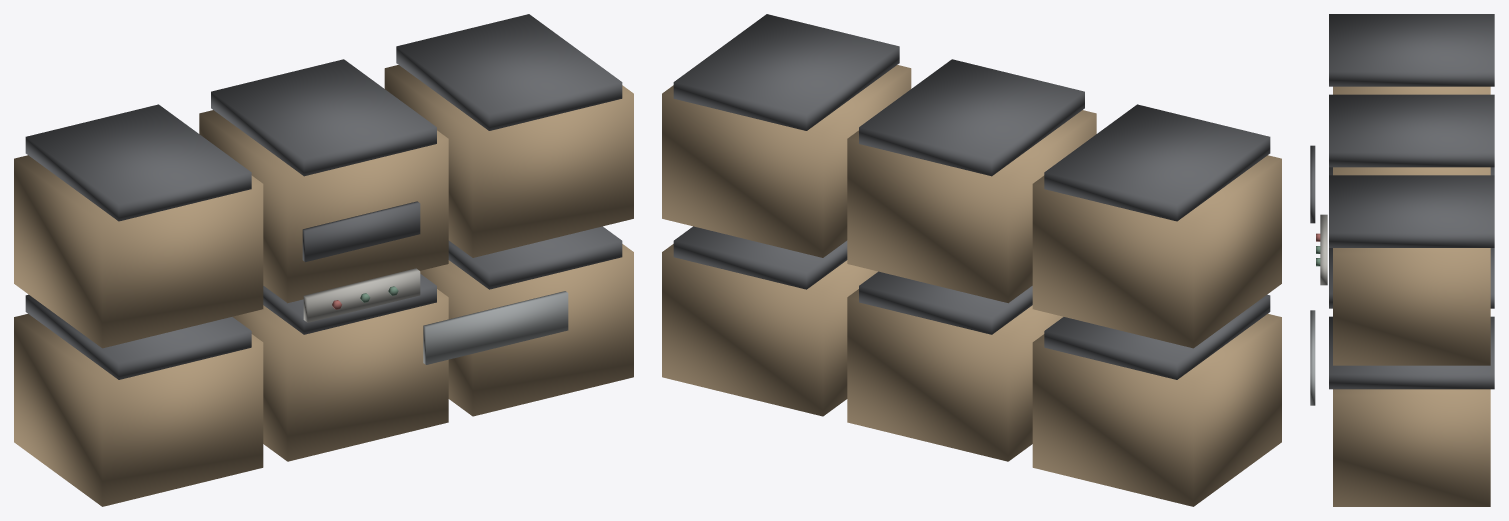
The model's file is produce_stand__weathered.glb.
3 renders of one model, left to right at view 1: azimuth 30°, elevation 25°; view 2: azimuth 150°, elevation 25°; view 3: azimuth 270°, elevation 25°, orthographic. The views are drawn at different scales.
Parts seen in each view (by area): view 1: world; view 2: world; view 3: world.
Part boxes in pixels (x1=…): world: x1=14, y1=14, x2=633, y2=506; world: x1=662, y1=14, x2=1281, y2=506; world: x1=1310, y1=14, x2=1494, y2=506.
Bounding box in the file's own units: 1.32 × 0.7128 × 0.445.
